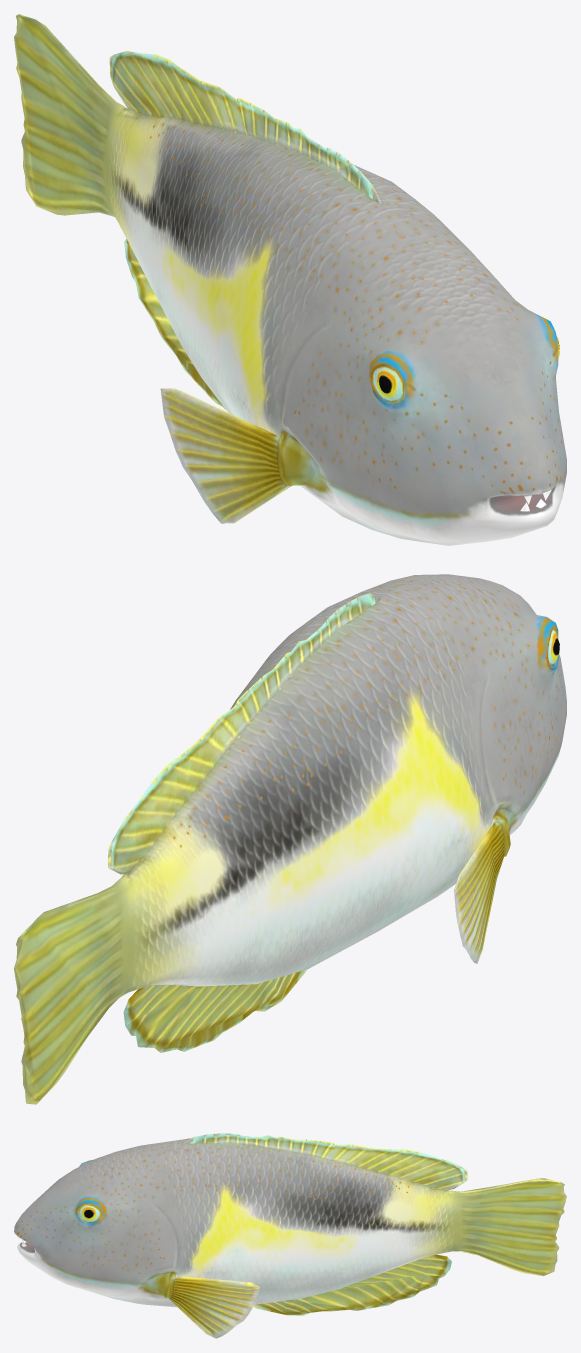
Rendered from tuskfish_lod1.glb.
3 renders of one model, top to bottom at view 1: azimuth 30°, elevation 25°; view 2: azimuth 150°, elevation 25°; view 3: azimuth 270°, elevation 25°, orthographic. The views are drawn at different scales.
Visible parts, largest first — view 1: orange_tuskfish_LOD2.1; view 2: orange_tuskfish_LOD2.1; view 3: orange_tuskfish_LOD2.1.
Part boxes in pixels (x1,y1,x2,y2): orange_tuskfish_LOD2.1: (14,14,566,545); orange_tuskfish_LOD2.1: (14,574,566,1104); orange_tuskfish_LOD2.1: (14,1133,566,1338).
Bounding box in the file's own units: 0.1187 × 0.135 × 0.3704.
1 material, 1 textured.
